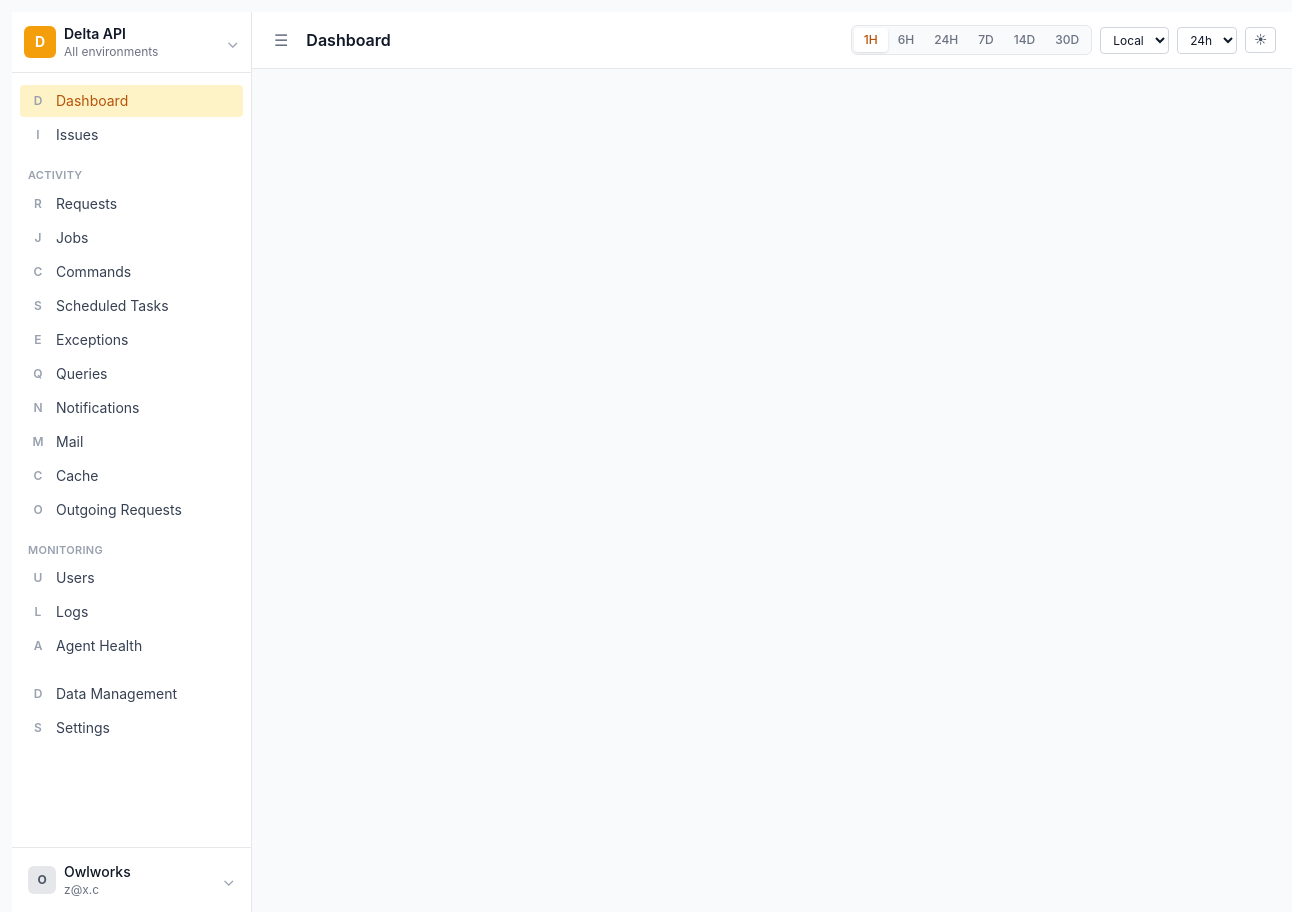
it: AppShell — app switcher (finding #11) › lists the environment filter and every sibling app grouped by team
Click the button with test id "app-switcher-trigger".
click(132, 42)  # box [12, 12, 251, 72]
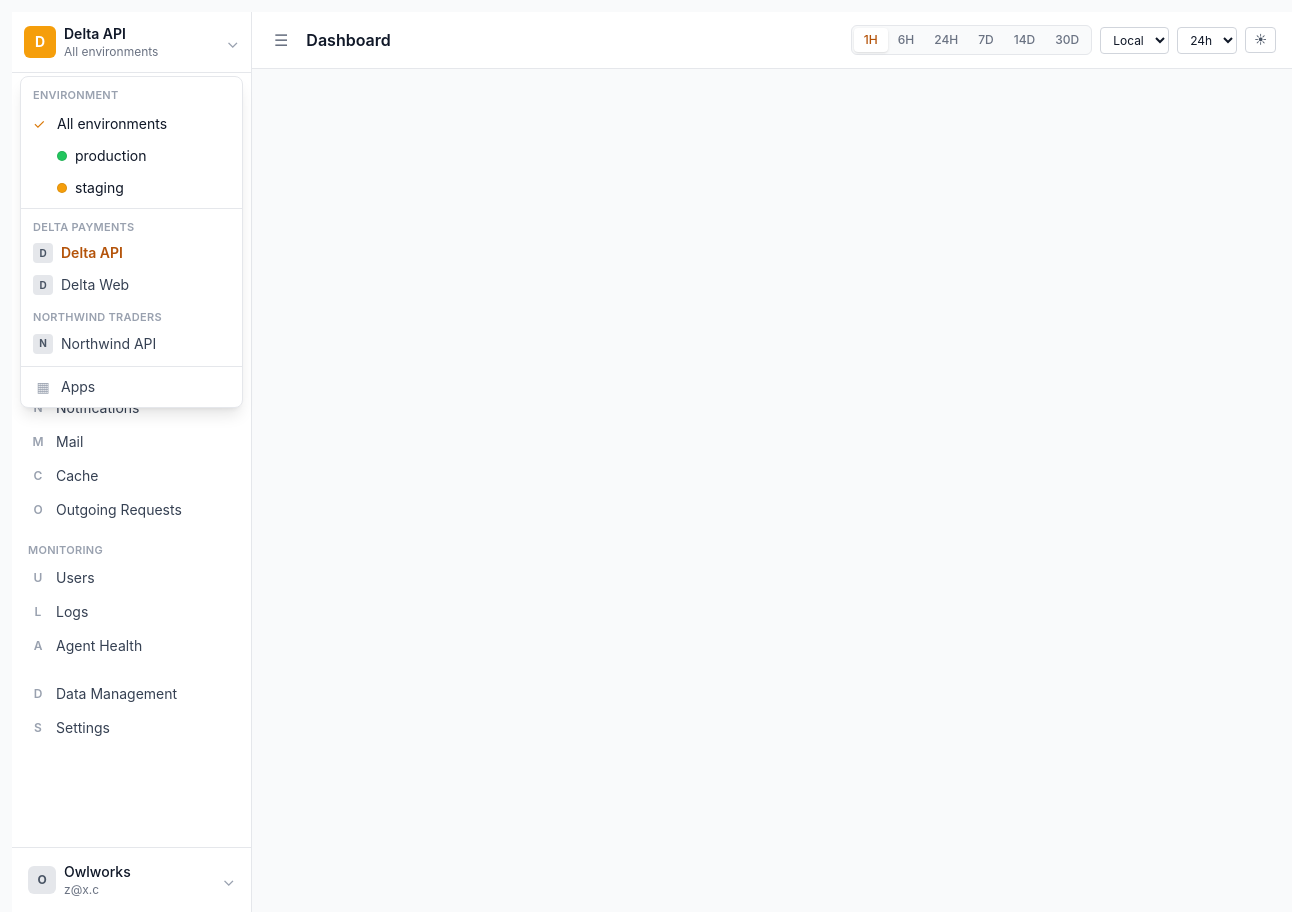
Expected: the element with test id "app-switcher-menu" shows "Environment", [33, 88, 118, 102]
Expected: the element with test id "app-switcher-menu" shows "All environments", [21, 108, 242, 140]
Expected: the element with test id "app-switcher-menu" shows "production", [21, 140, 242, 172]
